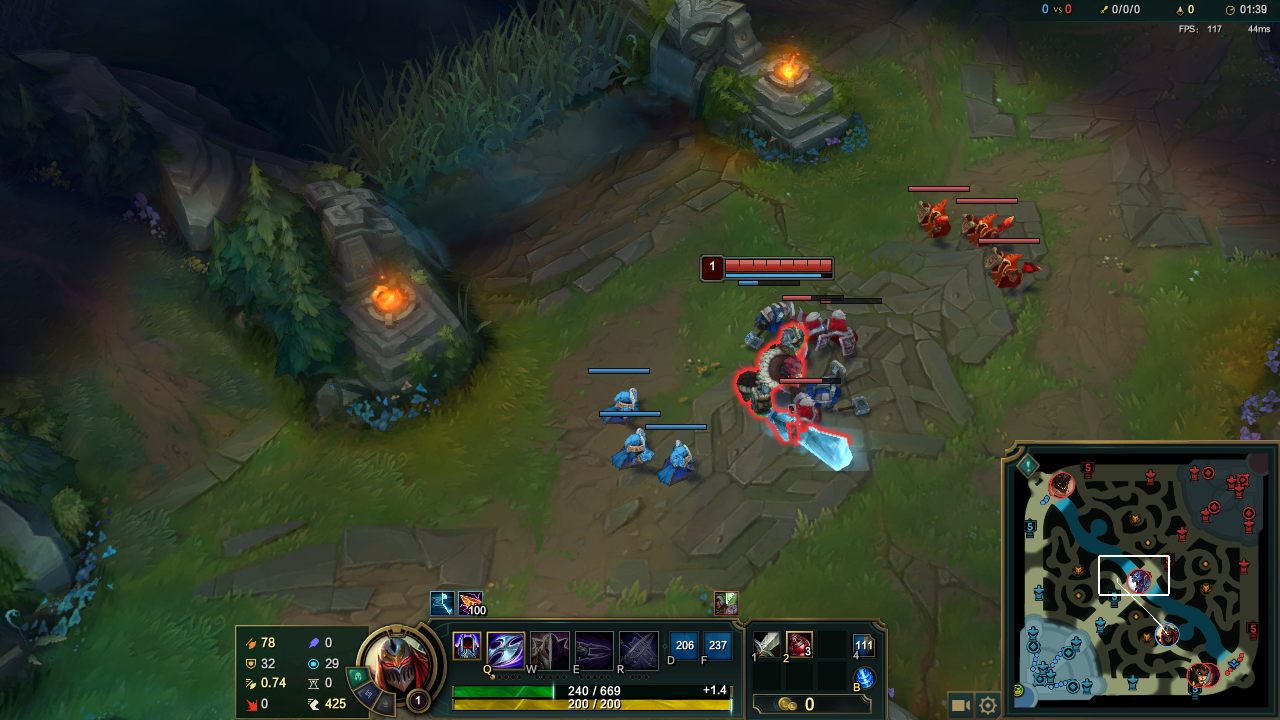DFYX: (725, 258, 833, 271)
